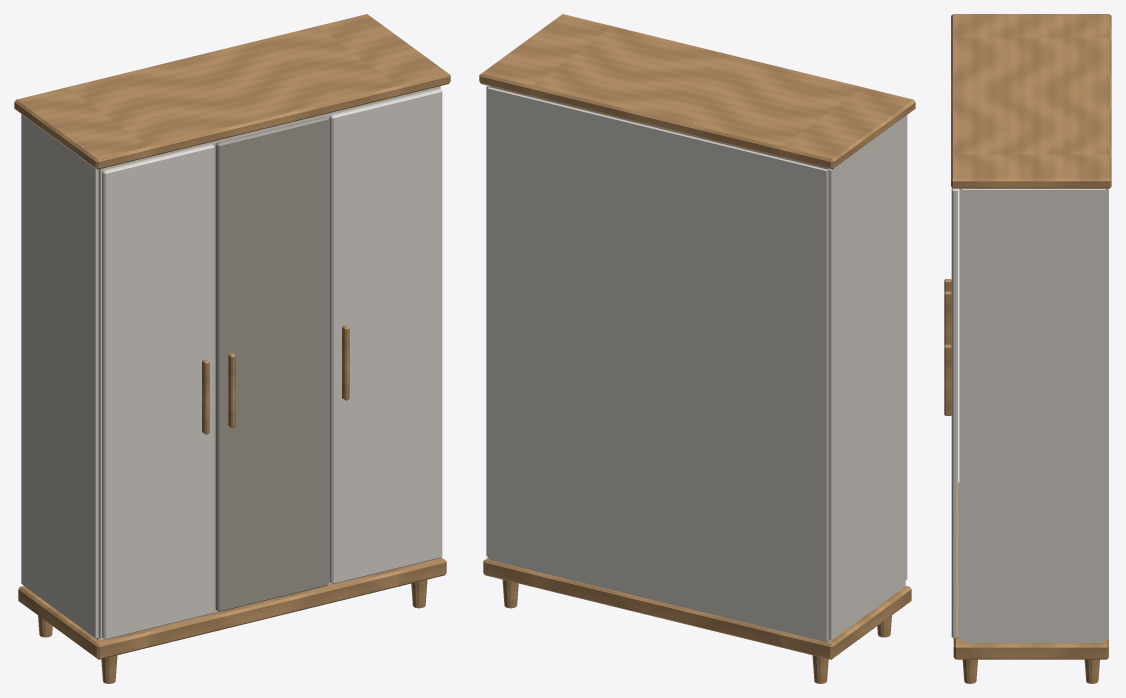
File: wardrobe.obj
3 views of the same model, side by side, from view 1: azimuth 30°, elevation 25°; view 2: azimuth 150°, elevation 25°; view 3: azimuth 270°, elevation 25° (orthographic). The views are drawn at different scales.
Visible parts, largest first — view 1: Door_3, Door_2, Door_1, CabinetBody, TopCrown, BasePlinth; view 2: CabinetBody, TopCrown, BasePlinth, Door_1; view 3: CabinetBody, TopCrown, Door_3, BasePlinth, Handle_3, Handle_2, WardrobeLeg_0.62_-0.22, WardrobeLeg_0.62_0.22.
Boxes of the visible parts, x1,y1,x2,y2 form: Door_3: (329, 88, 442, 584); Door_2: (215, 116, 328, 611); Door_1: (102, 144, 214, 639); CabinetBody: (21, 86, 440, 640); TopCrown: (14, 14, 450, 169); BasePlinth: (18, 557, 446, 659); CabinetBody: (486, 85, 905, 642); TopCrown: (479, 14, 915, 169); BasePlinth: (483, 558, 911, 659); Door_1: (905, 115, 907, 580); CabinetBody: (959, 188, 1108, 642); TopCrown: (951, 14, 1111, 188); Door_3: (951, 187, 958, 638); BasePlinth: (953, 482, 1108, 659); Handle_3: (944, 344, 951, 415); Handle_2: (944, 291, 951, 345); WardrobeLeg_0.62_-0.22: (962, 659, 977, 683); WardrobeLeg_0.62_0.22: (1084, 659, 1099, 683).
Bounding box in the file's own units: 1.42 × 2.04 × 0.604.
3 materials, 1 textured.
